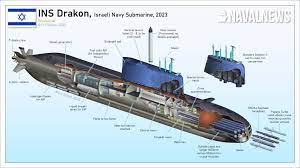Submarine: (13, 46, 253, 144)
